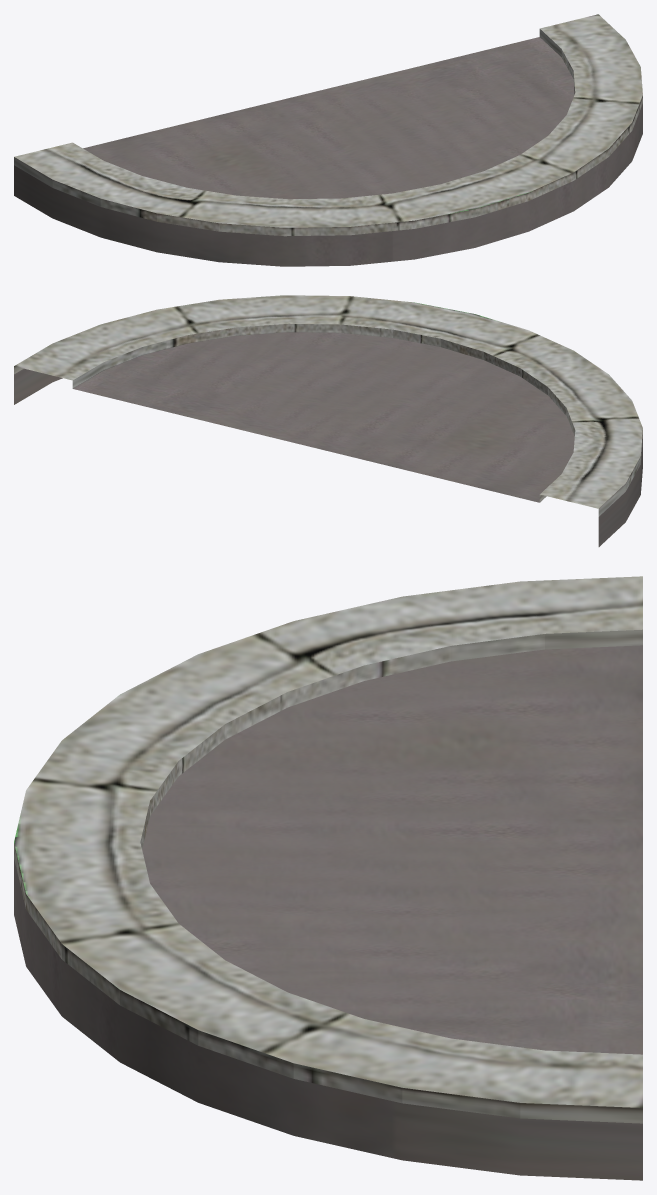
File: Half circle_Road(Largel).FBX
3 renders of one model, top to bottom at view 1: azimuth 30°, elevation 25°; view 2: azimuth 150°, elevation 25°; view 3: azimuth 270°, elevation 25°, orthographic. The views are drawn at different scales.
Visible parts, largest first — view 1: Half circle_Road(Large); view 2: Half circle_Road(Large); view 3: Half circle_Road(Large).
Part boxes in pixels (box(x1,y1,x2,y2)): Half circle_Road(Large): box(14, 14, 642, 266); Half circle_Road(Large): box(14, 295, 642, 546); Half circle_Road(Large): box(14, 576, 642, 1180).
Bounding box in the file's own units: 1000 × 63.69 × 500.
